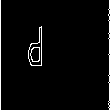P_S: (47, 30, 63, 80)
